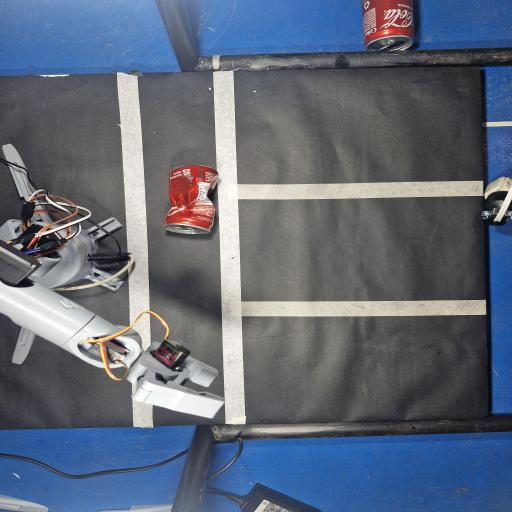lata_defectuoso: (164, 166, 218, 234)
